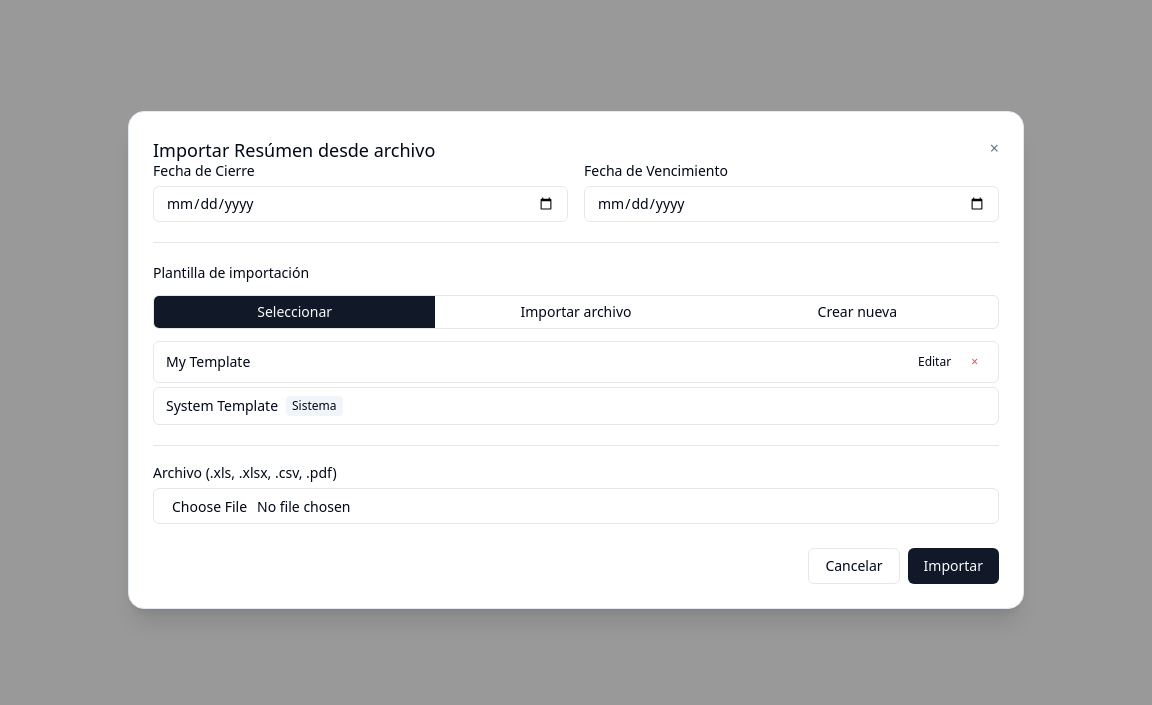
Test case: ImportStatementModal › installment pattern picker › hides the inline new-pattern form when clicking it again (Cancelar)
Expected: the text "My Template" is shown, [166,352,250,372]
Click the button "Crear nueva": (857, 312) [717,296,998,328]
(page scrolled)
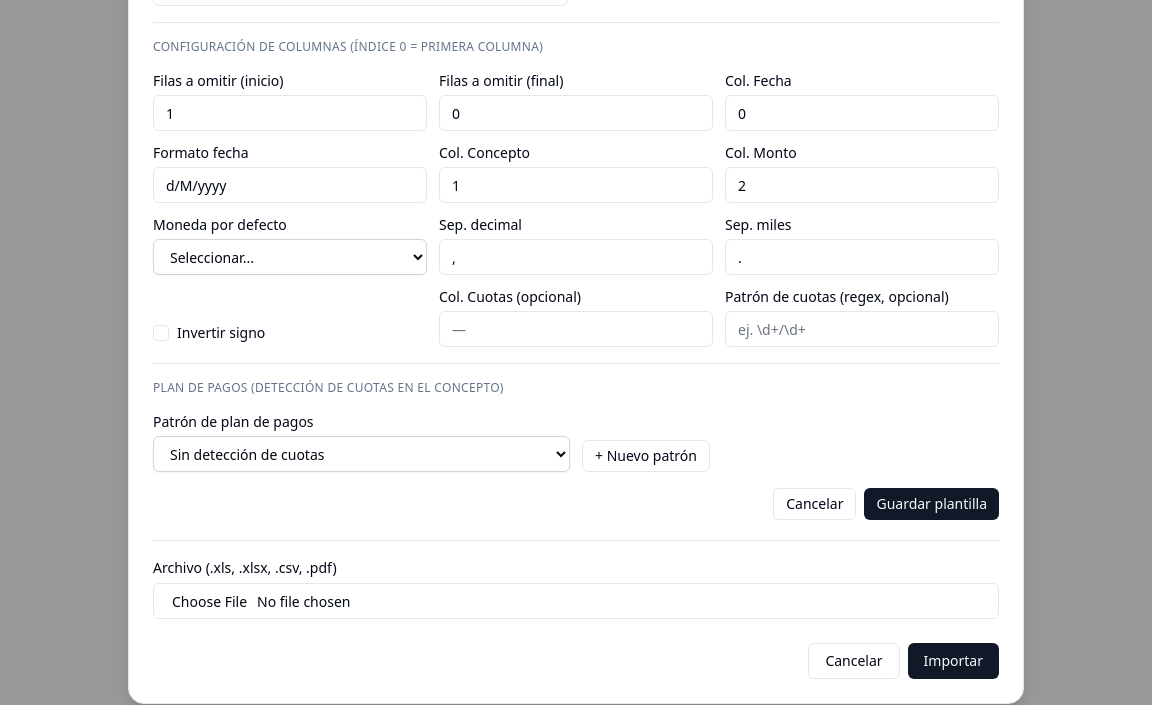
Click the button "+ Nuevo patrón": (646, 456) [582,440,710,472]
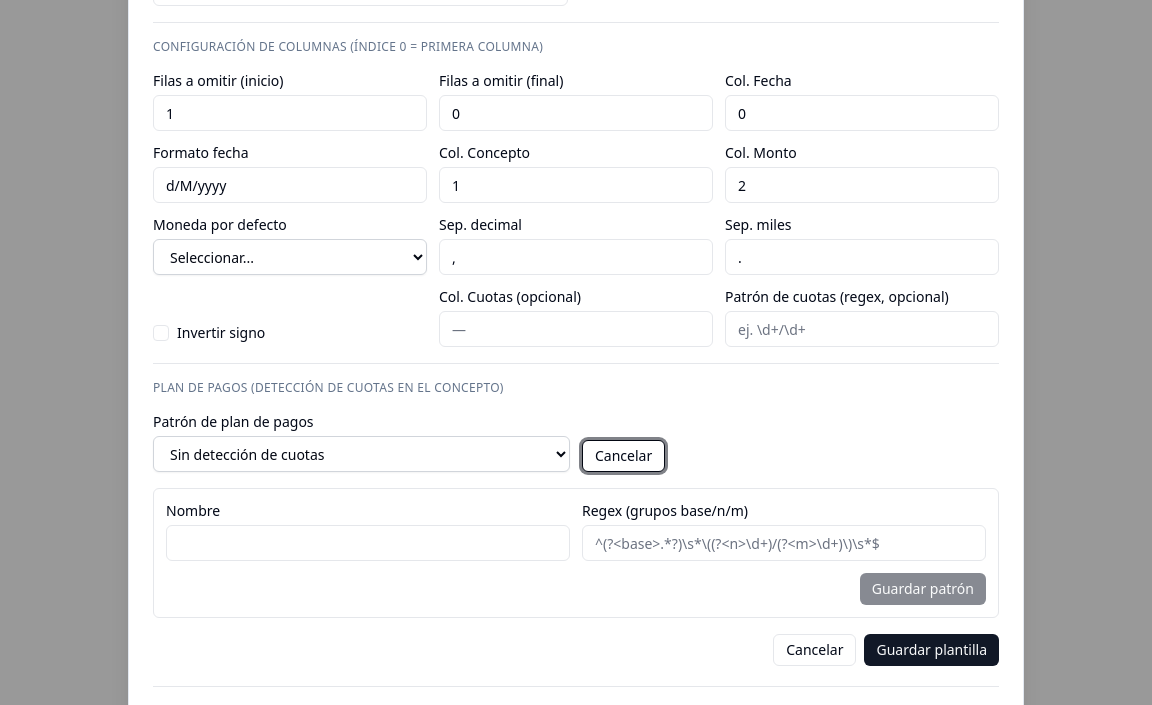
Expected: the button "Guardar patrón" is shown, [860,573,986,605]
Click the button named "+ Nuevo patrón": (624, 456) [582,440,665,472]
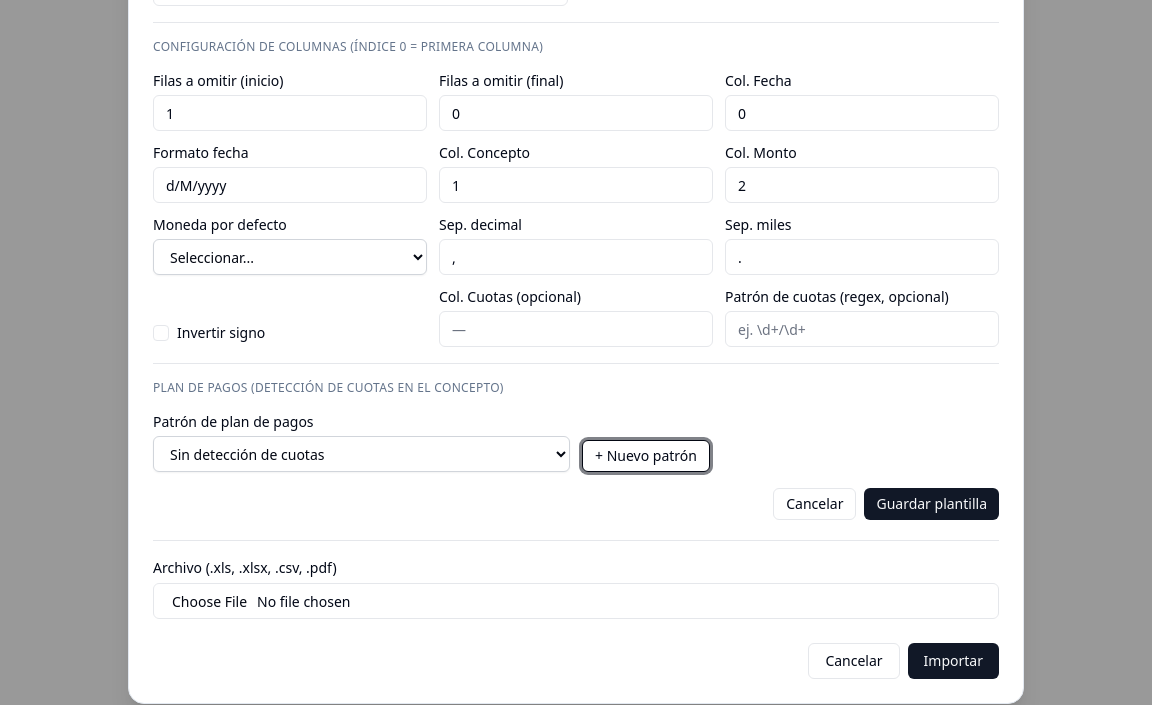
Expected: the button "Guardar patrón" is gone
